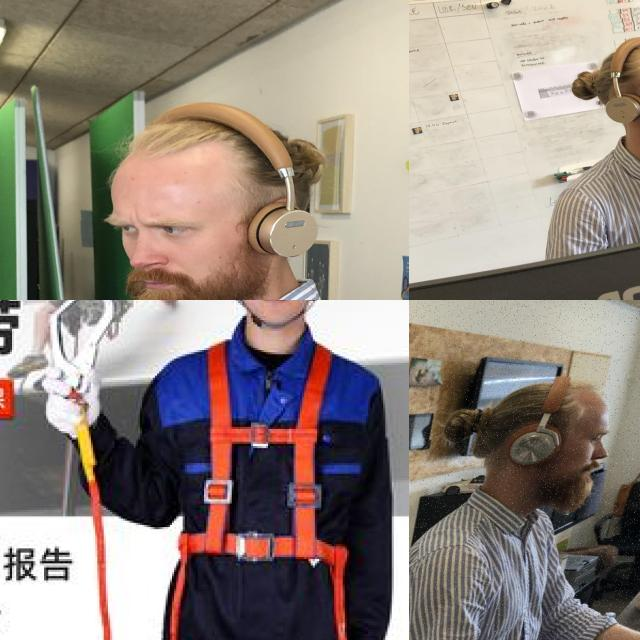Ear-protection: (463, 375, 640, 528), (238, 187, 326, 268), (595, 32, 640, 166)
Harness: (165, 337, 355, 640)
No_Glasses: (96, 206, 208, 245)
